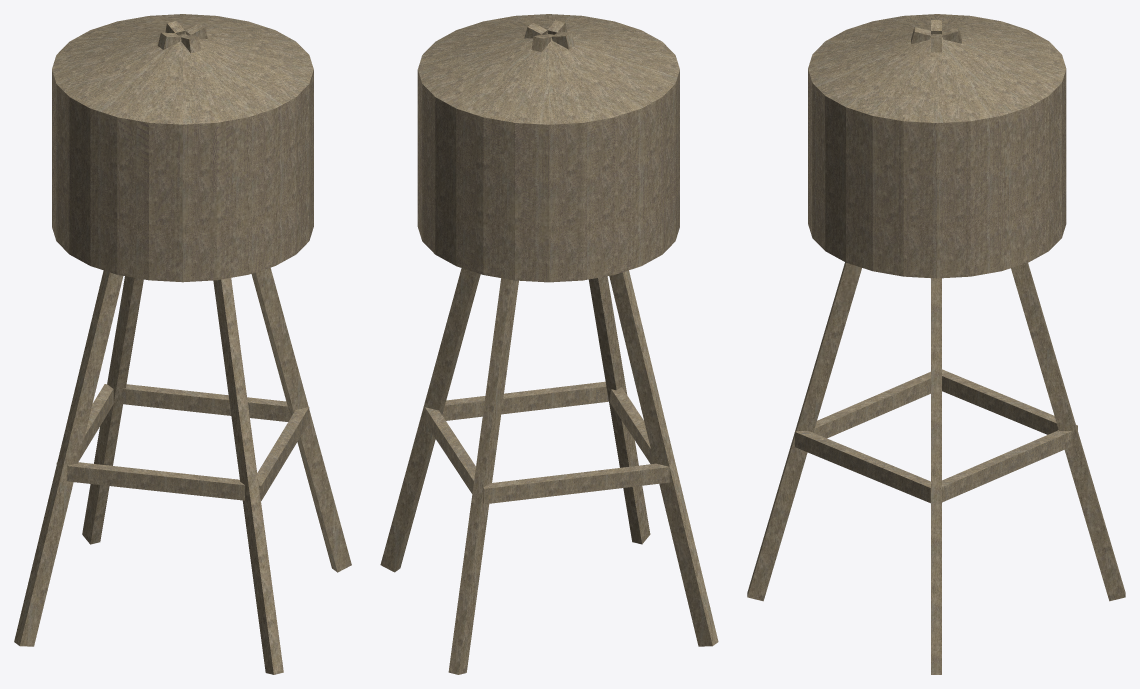
The model's file is Water Tower.fbx.
3 views of the same model, side by side, from view 1: azimuth 30°, elevation 25°; view 2: azimuth 150°, elevation 25°; view 3: azimuth 270°, elevation 25° (orthographic).
Parts seen in each view (by area): view 1: Model; view 2: Model; view 3: Model.
Boxes of the visible parts, bbox=[...] form: Model: bbox=[14, 14, 351, 674]; Model: bbox=[380, 14, 718, 674]; Model: bbox=[747, 14, 1125, 674].
Size of the model in its own units: 502 by 834 by 502.
